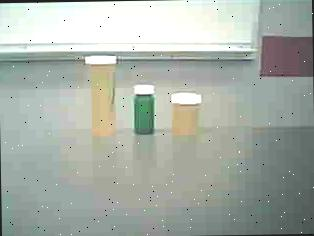Bottle A: (82, 49, 126, 146)
Bottle B: (167, 86, 204, 143)
Bottle C: (130, 79, 161, 138)
